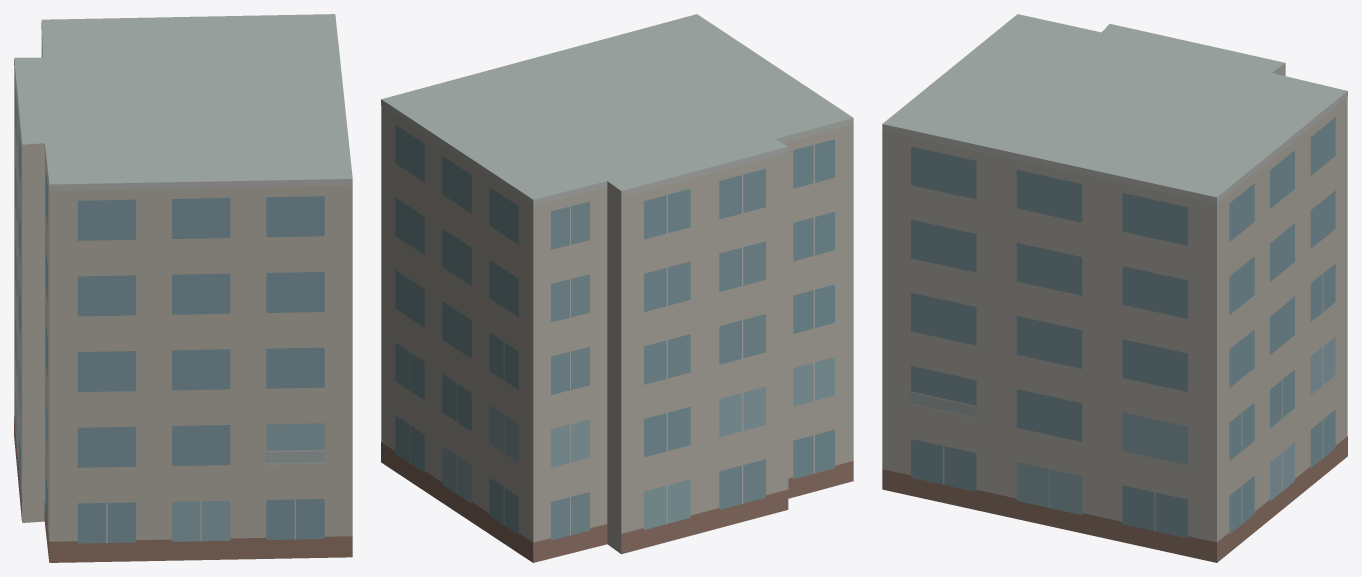
File: survey-upis-32720243.glb
The picture shows the model from 3 angles, left to right: view 1: azimuth 30°, elevation 25°; view 2: azimuth 150°, elevation 25°; view 3: azimuth 270°, elevation 25°; orthographic projection. The views are drawn at different scales.
Parts seen in each view (by area): view 1: survey-upis-32720243.tmp; view 2: survey-upis-32720243.tmp; view 3: survey-upis-32720243.tmp.
Boxes of the visible parts, bbox=[...] form: survey-upis-32720243.tmp: bbox=[14, 14, 352, 562]; survey-upis-32720243.tmp: bbox=[381, 14, 853, 562]; survey-upis-32720243.tmp: bbox=[882, 14, 1347, 562].
Bounding box in the file's own units: 15.43 × 14.33 × 16.55.
